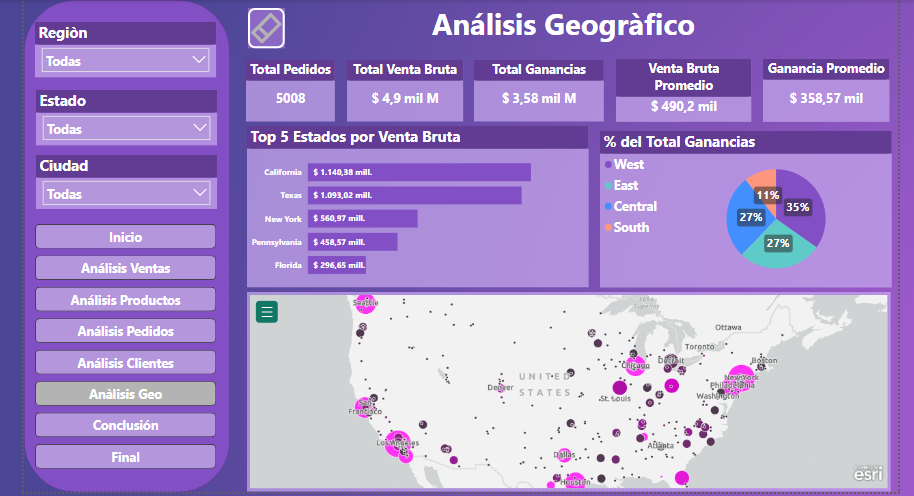

Layout of this report page (visuals, bound fields, positions):
{"tool":"powerbi","page":{"name":"Anàlisis Geo","canvas":[1280,720],"ordinal":5},"visuals":[{"type":"shape","box":[0,0,301.2,720.6],"z":0},{"type":"pageNavigator","box":[16.2,328.1,265,362.4],"z":1000},{"type":"slicer","title":"Ciudad","fields":{"Values":["Geo.Ciudad"]},"box":[18,227.2,265,79.3],"z":2000},{"type":"textbox","box":[325.5,0,929.4,71.2],"z":3000},{"type":"card","title":"Total Pedidos","fields":{"Values":["Medidas.Total_Pedidos_Ventas"]},"box":[325,88.3,130,90],"z":4000},{"type":"card","title":"Total Venta Bruta","fields":{"Values":["Medidas.Total_Venta_Bruta"]},"box":[472.1,88.3,170,90],"z":5000},{"type":"card","title":"Total Ganancias","fields":{"Values":["Medidas.Total_Ganancias"]},"box":[659.2,88.3,190,90],"z":6000},{"type":"card","title":"Venta Bruta Promedio","fields":{"Values":["Medidas.Promedio_Venta_Bruta"]},"box":[866.3,86.7,198.3,91.7],"z":7000},{"type":"card","title":"Ganancia Promedio","fields":{"Values":["Medidas.Promedio_Ganancia"]},"box":[1081.7,86.7,185,91.7],"z":8000},{"type":"slicer","title":"Estado","fields":{"Values":["Geo.Estado"]},"box":[18,131.6,265,81.1],"z":9000},{"type":"slicer","title":"Regiòn","fields":{"Values":["Geo.Region"]},"box":[16.2,32.5,265,81.1],"z":10000},{"type":"esriVisual","title":"Cantidad Pedidos","fields":{"Location":["Geo.Ciudad"],"Size":["Medidas.Total_Pedidos_Ventas"],"Color":["Medidas.Total_Ganancias"]},"box":[326,428,942,292],"z":11000},{"type":"pieChart","title":"% del Total Ganancias","fields":{"Y":["Medidas.Total_Ganancias"],"Category":["Geo.Region"]},"box":[842.4,191.2,427.2,229.1],"z":12000},{"type":"barChart","title":"Top 5 Estados por Venta Bruta","fields":{"Y":["Medidas.Total_Venta_Bruta"],"Category":["Geo.Estado"]},"box":[326,184,500,236],"z":13000},{"type":"actionButton","box":[327.8,12.1,53.8,59],"z":14000}]}

Visuals, with their boxes on the page's 1280x720 design canvas (x1, y1, x2, y2). These are canvas units, not pixel positions in the 914x496 screenshot, which may show the page scaled, cropped or inside an application window:
shape: 0,0,301,721
pageNavigator: 16,328,281,690
"Ciudad" slicer: 18,227,283,306
textbox: 326,0,1255,71
"Total Pedidos" card: 325,88,455,178
"Total Venta Bruta" card: 472,88,642,178
"Total Ganancias" card: 659,88,849,178
"Venta Bruta Promedio" card: 866,87,1065,178
"Ganancia Promedio" card: 1082,87,1267,178
"Estado" slicer: 18,132,283,213
"Regiòn" slicer: 16,32,281,114
"Cantidad Pedidos" esriVisual: 326,428,1268,720
"% del Total Ganancias" pieChart: 842,191,1270,420
"Top 5 Estados por Venta Bruta" barChart: 326,184,826,420
actionButton: 328,12,382,71
